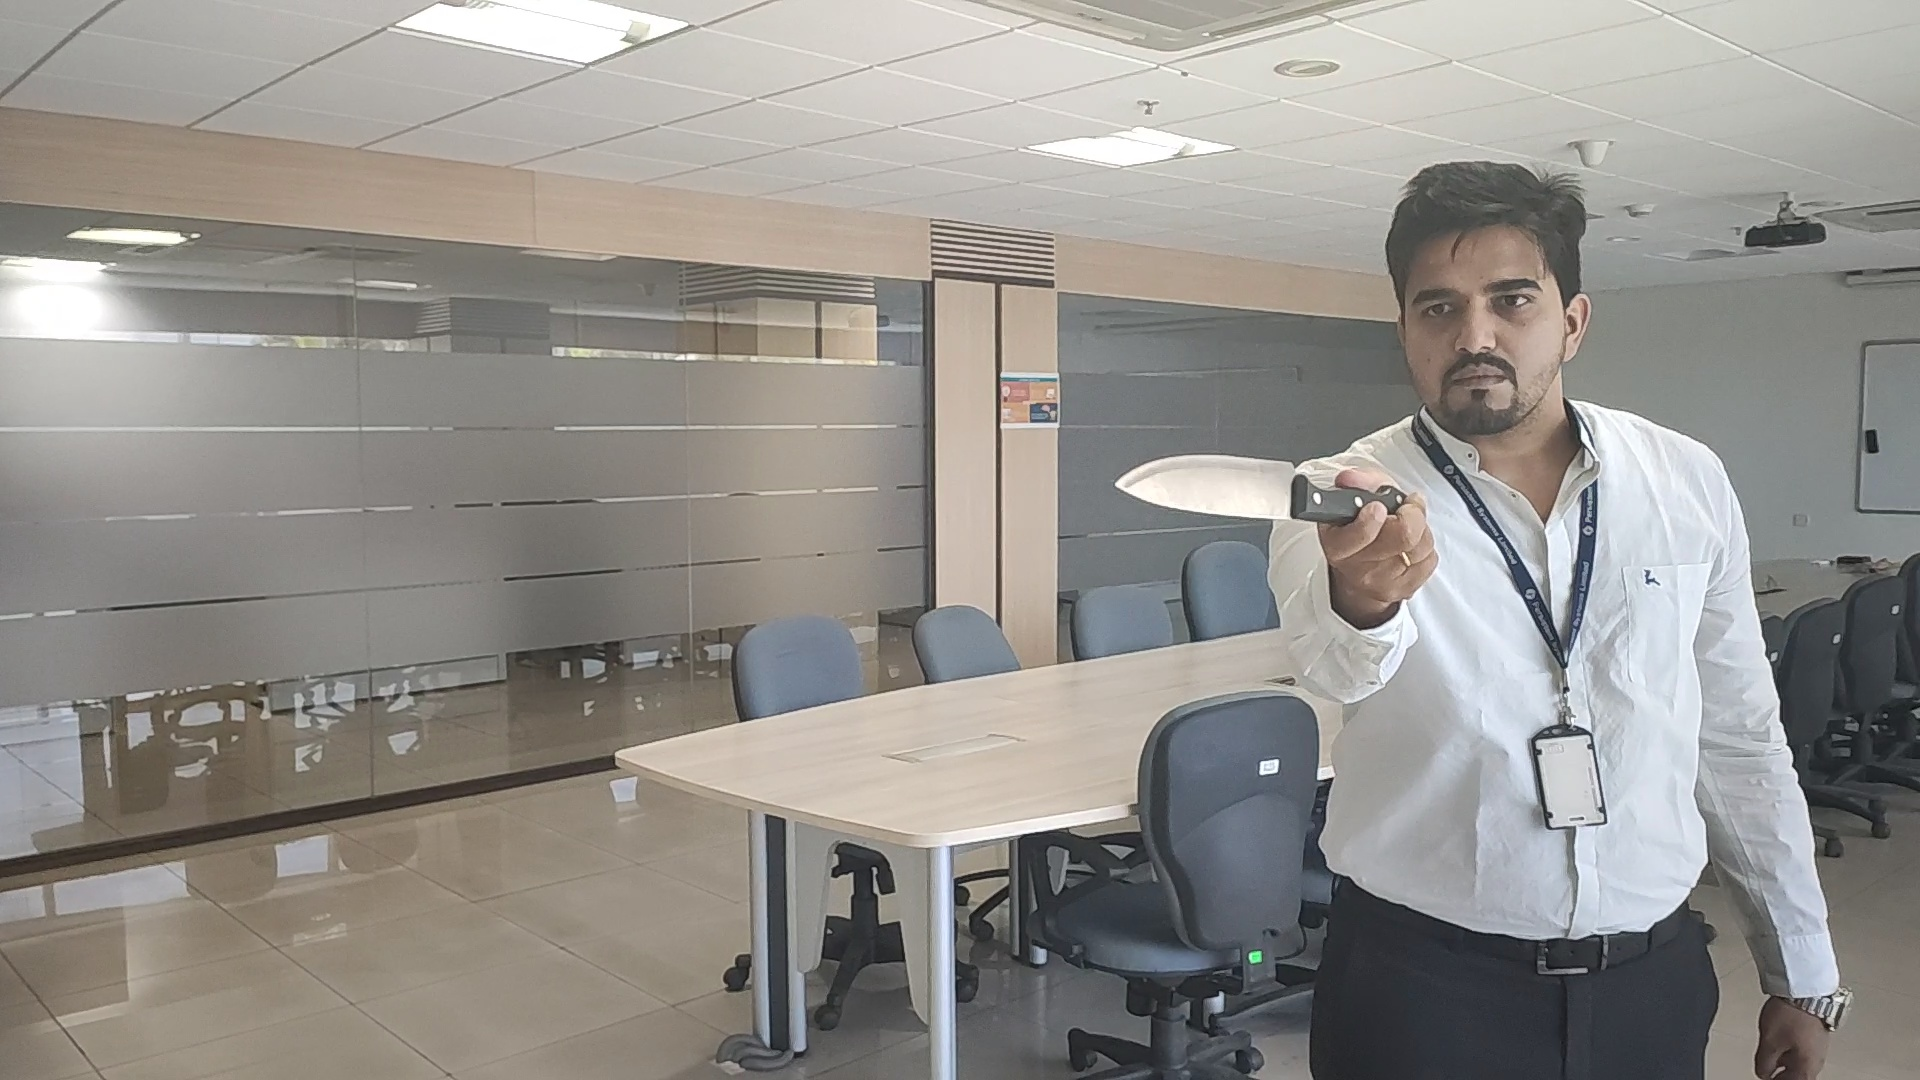knife: (1116, 446, 1361, 526)
